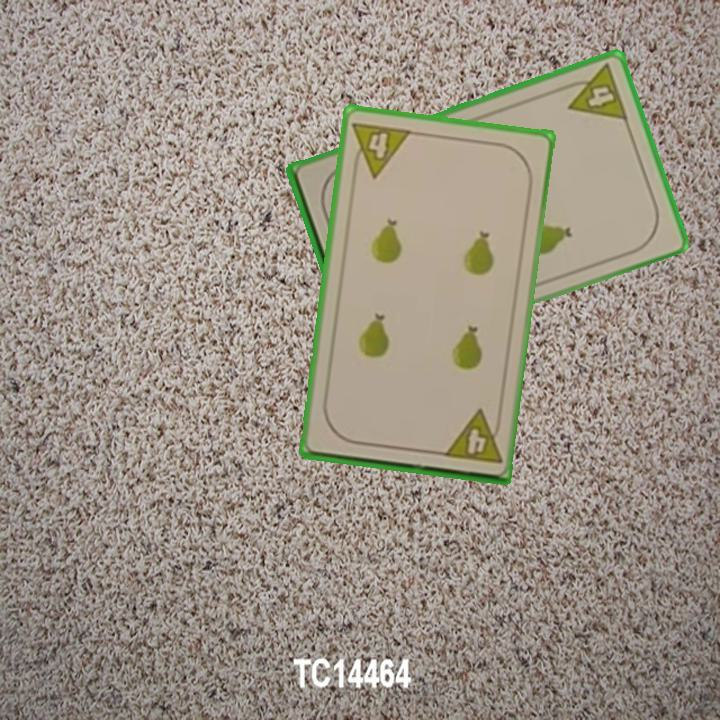4p: (558, 60, 631, 123), (348, 117, 414, 181), (439, 406, 505, 467)
